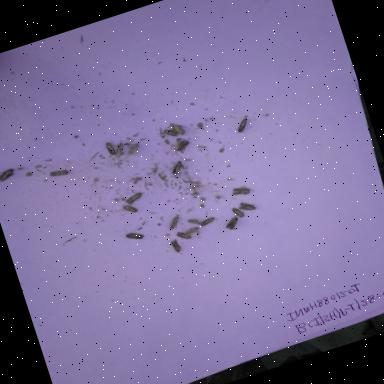pbw: (98, 136, 119, 160), (46, 164, 73, 182), (124, 137, 146, 159), (170, 134, 192, 156), (166, 157, 190, 177), (122, 190, 148, 208), (164, 235, 185, 257), (164, 213, 186, 232), (230, 182, 252, 199), (159, 124, 179, 142), (180, 224, 202, 240), (238, 199, 258, 216), (234, 116, 252, 134), (119, 201, 138, 218), (124, 228, 144, 244), (198, 214, 218, 230), (0, 165, 17, 183), (112, 140, 128, 159), (186, 214, 204, 230), (224, 215, 242, 231), (174, 228, 192, 244), (229, 204, 246, 220), (172, 121, 187, 138), (178, 230, 192, 248)
